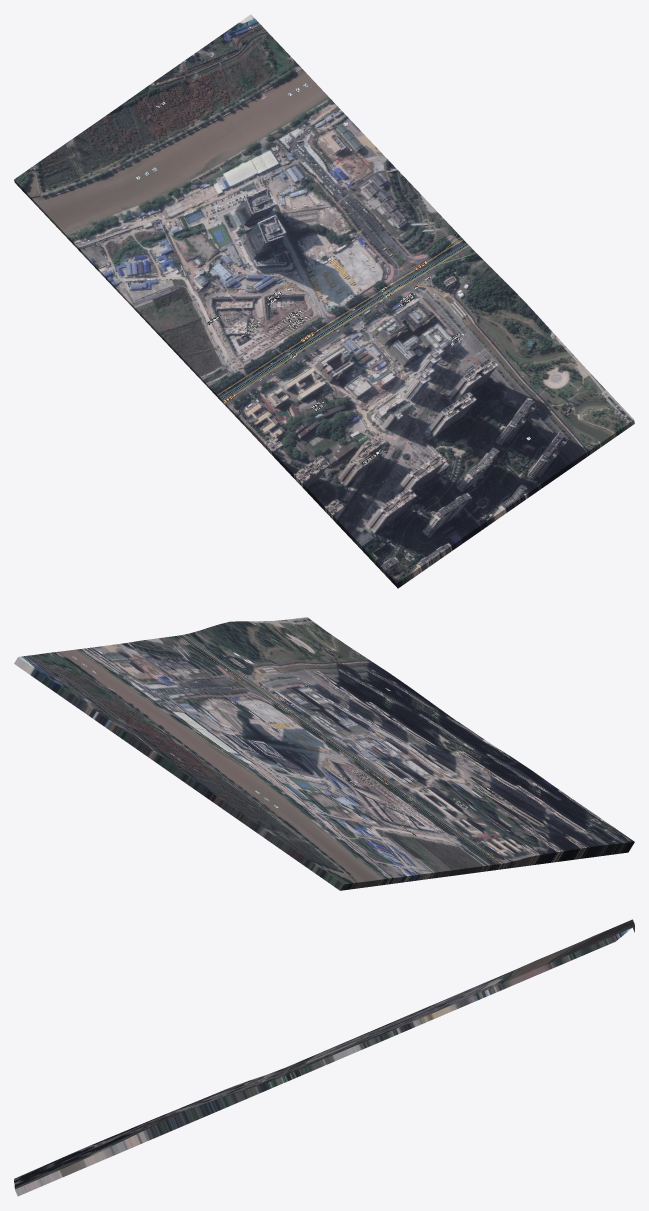
The picture shows the model from 3 angles, top to bottom: view 1: azimuth 30°, elevation 25°; view 2: azimuth 150°, elevation 25°; view 3: azimuth 270°, elevation 25°; orthographic projection. The views are drawn at different scales.
Visible parts, largest first — view 1: 1_7_16; view 2: 1_7_16; view 3: 1_7_16.
Boxes of the visible parts, x1,y1,x2,y2 form: 1_7_16: (14, 14, 634, 588); 1_7_16: (14, 617, 634, 890); 1_7_16: (14, 919, 634, 1196).
Size of the model in its own units: 710 by 671 by 1126.
1 material, 1 textured.
